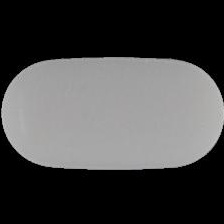54868-5250: (0, 0, 224, 224)
